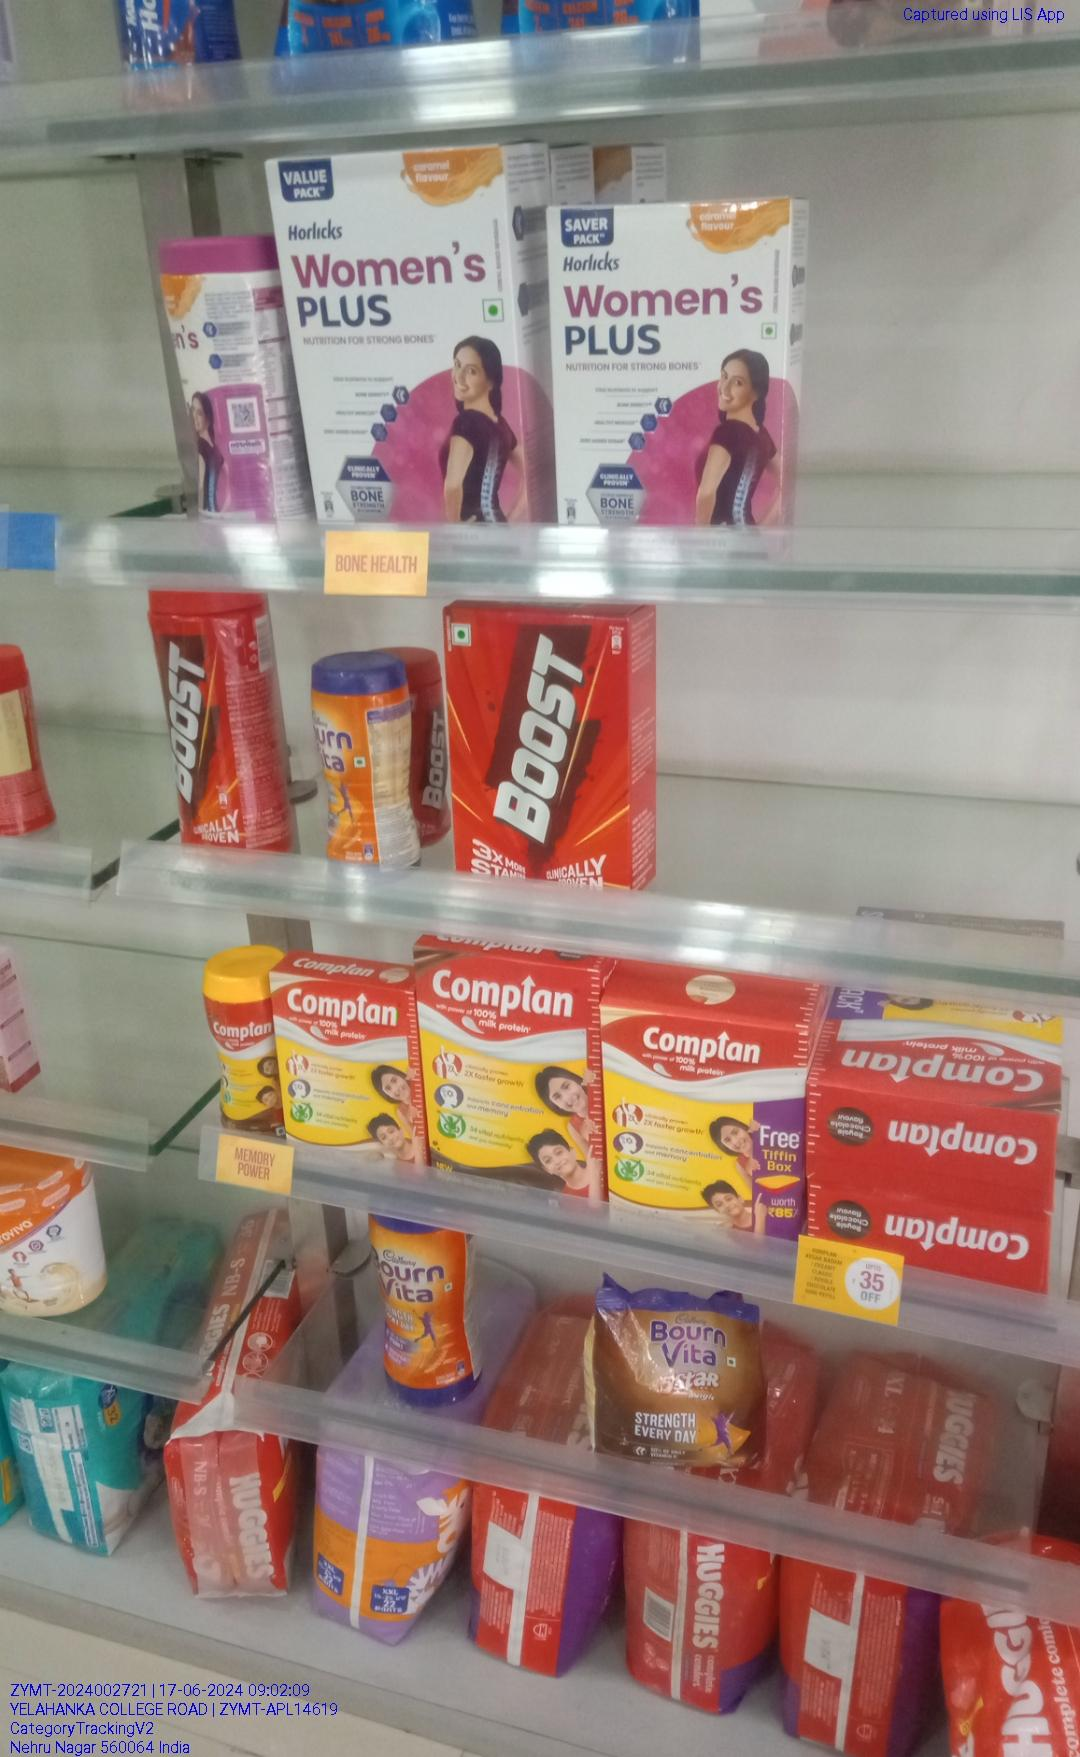BOURN_VITA_500_G_JAR: (374, 1212, 475, 1404)
COMPLAN_CHOCOLATE_200_GMS_JAR: (208, 944, 278, 1131)
COMPLAN_KESAR_BADAM_200_GMS_PACK: (283, 974, 421, 1163)
